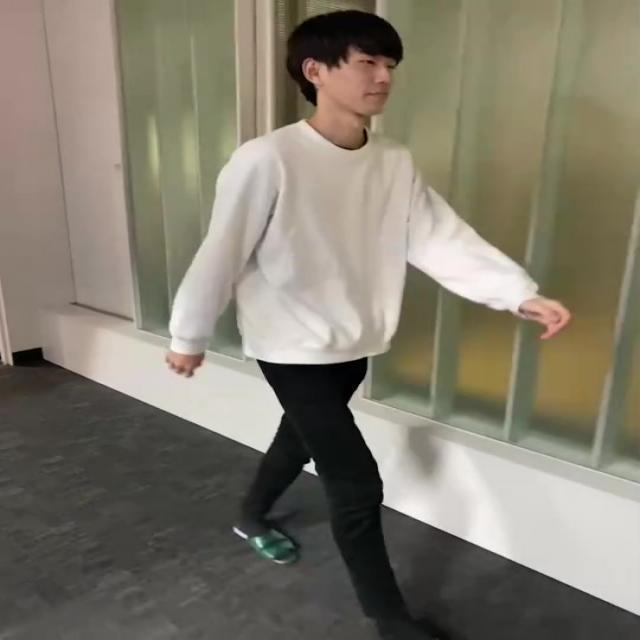direk: (163, 10, 577, 640)
